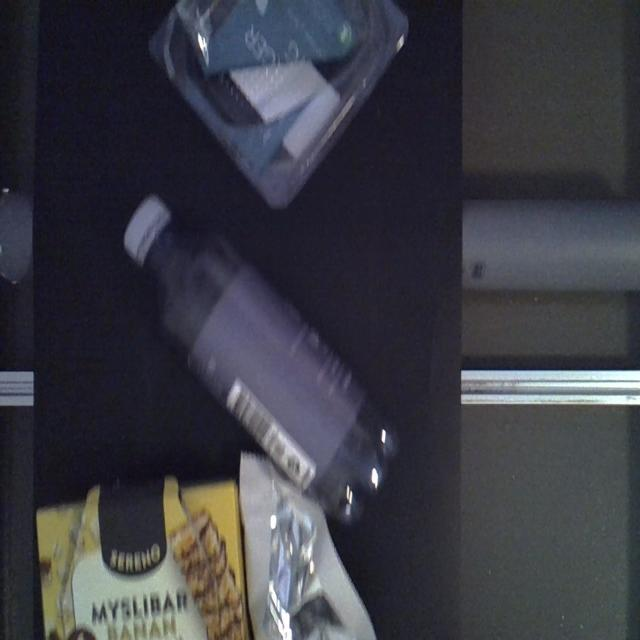bottle-plastic: (120, 188, 401, 528), (33, 462, 247, 637)
mixed-plastics: (144, 0, 408, 213)
packaging-soft-plastic: (237, 452, 384, 640)
